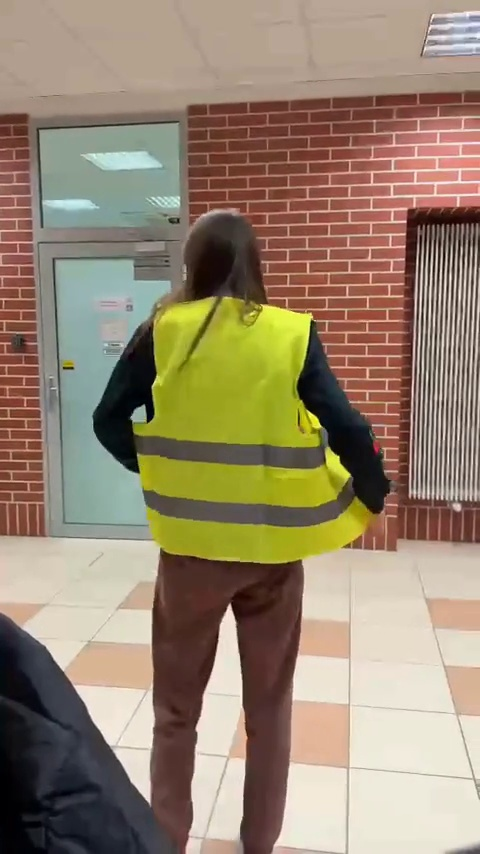vest: (89, 210, 386, 849)
